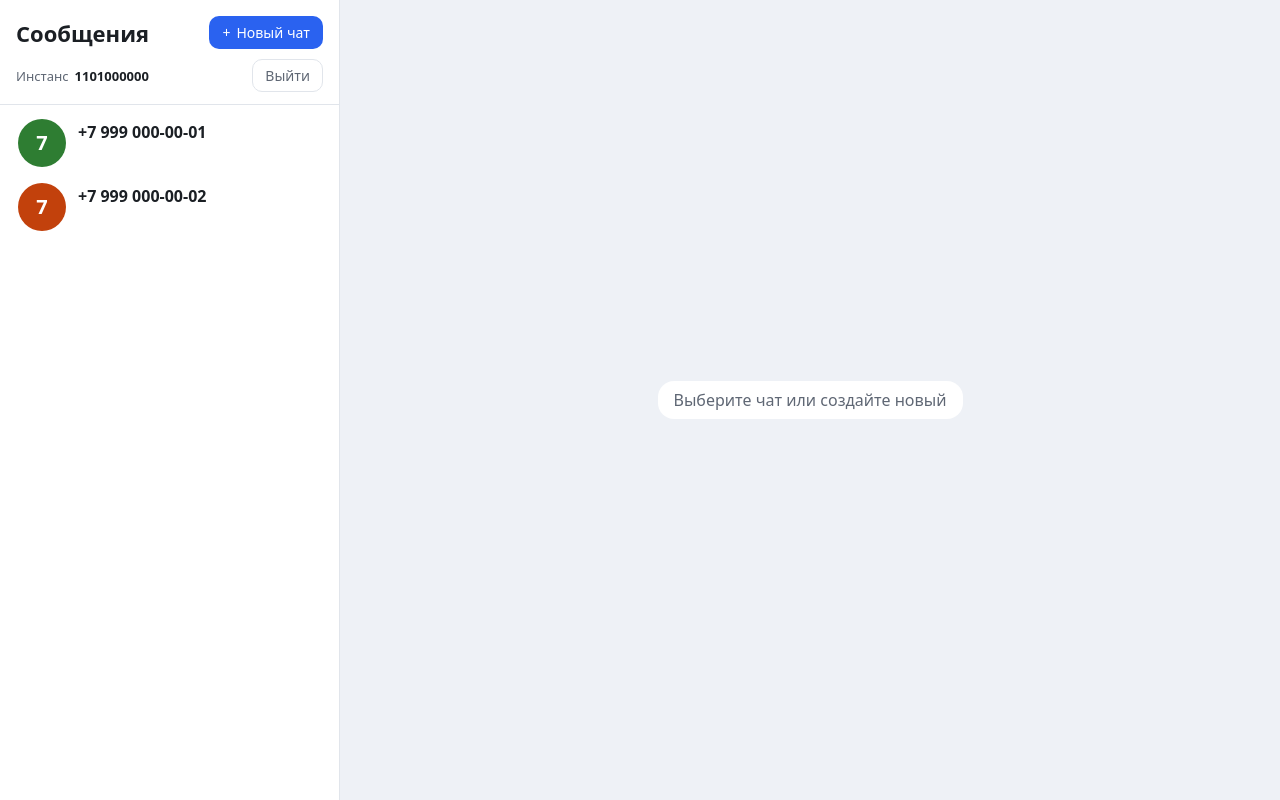
Test: лента (§4.0 п. 2, Р-11, Р-16, EC-U4, EC-U5, EC-O1) › «отправляется» из прошлой загрузки показывается как «не отправлено» (ВА-20, EC-D5)
This screenshot has width=1280, height=800.
Click the button with test id "chat-item" showing "7 +7 999 000-00-01".
click(170, 143)  # box [8,111,331,175]
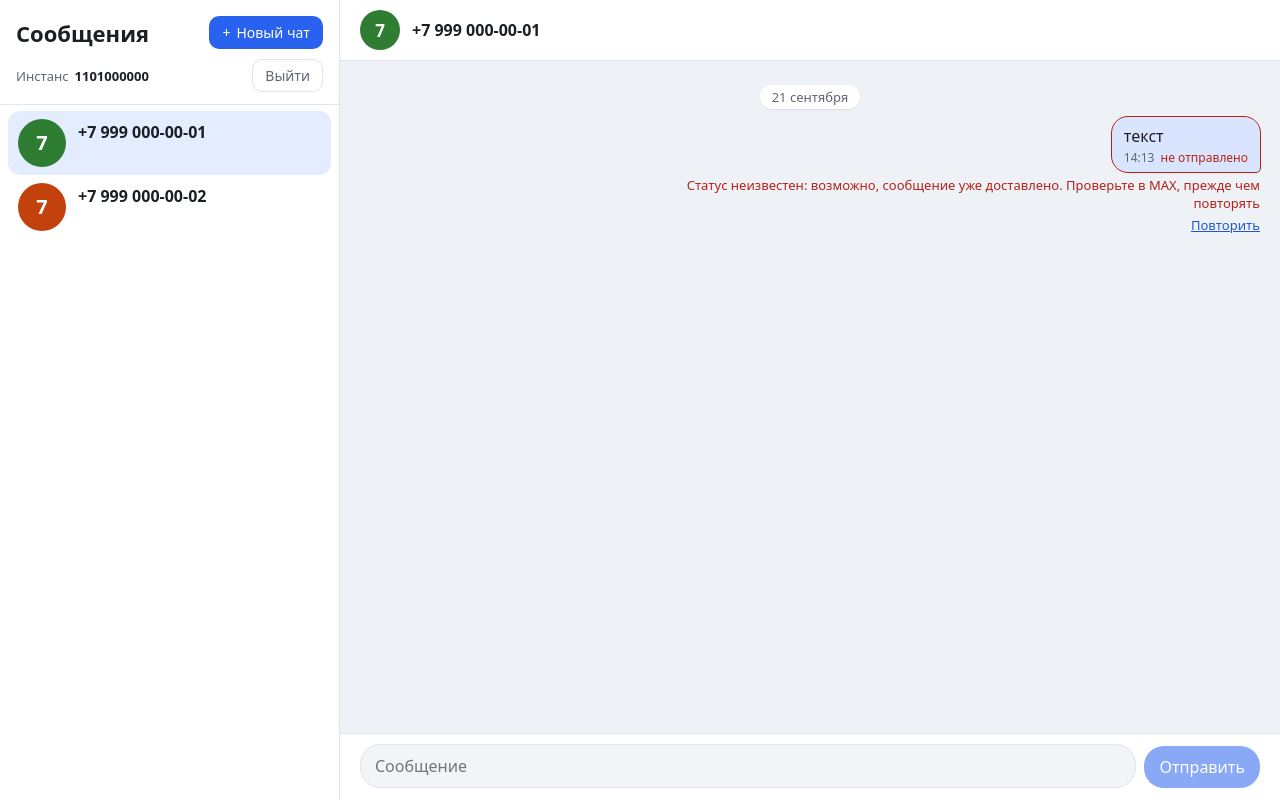
Expected: the text with test id "message-error" shows "Статус неизвестен: возможно, сообщение уже доставлено. Проверьте в MAX, прежде чем повторять", [687,176,1260,212]
